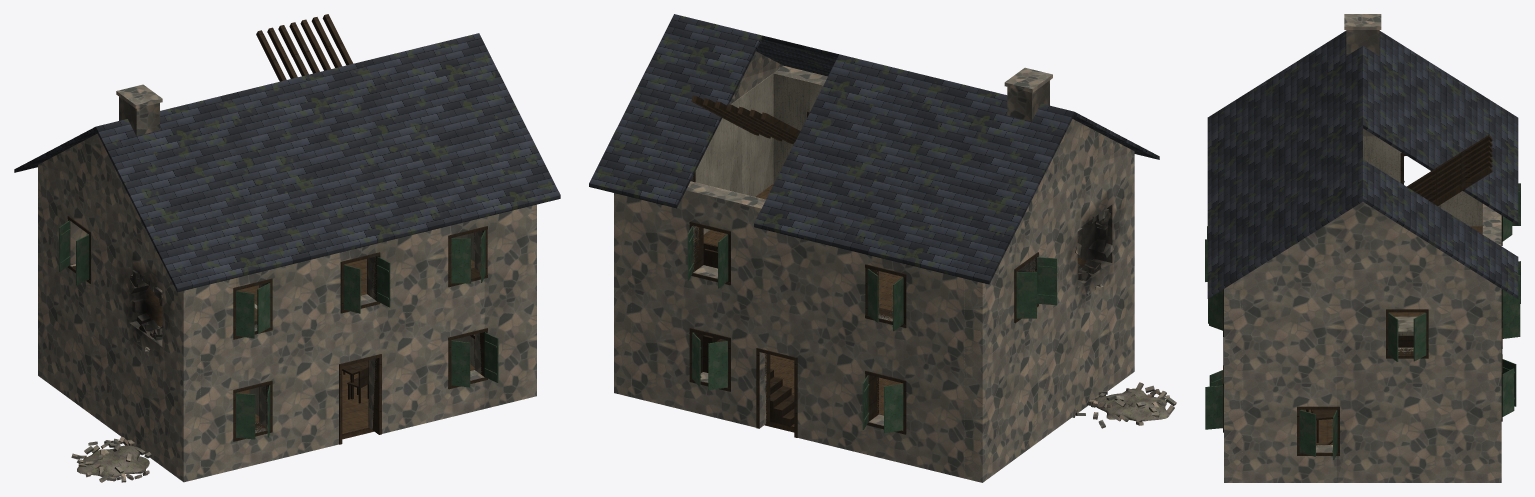
File: farmhouse.glb
3 views of the same model, side by side, from view 1: azimuth 30°, elevation 25°; view 2: azimuth 150°, elevation 25°; view 3: azimuth 270°, elevation 25° (orthographic). The views are drawn at different scales.
Visible parts, largest first — view 1: Farmhouse; view 2: Farmhouse; view 3: Farmhouse.
Boxes of the visible parts, left/top/right/bottom form: Farmhouse: left=14, top=14, right=560, bottom=482; Farmhouse: left=589, top=14, right=1176, bottom=482; Farmhouse: left=1205, top=14, right=1520, bottom=482.
Bounding box in the file's own units: 13.06 × 9.45 × 8.54.
10 materials, 9 textured.
